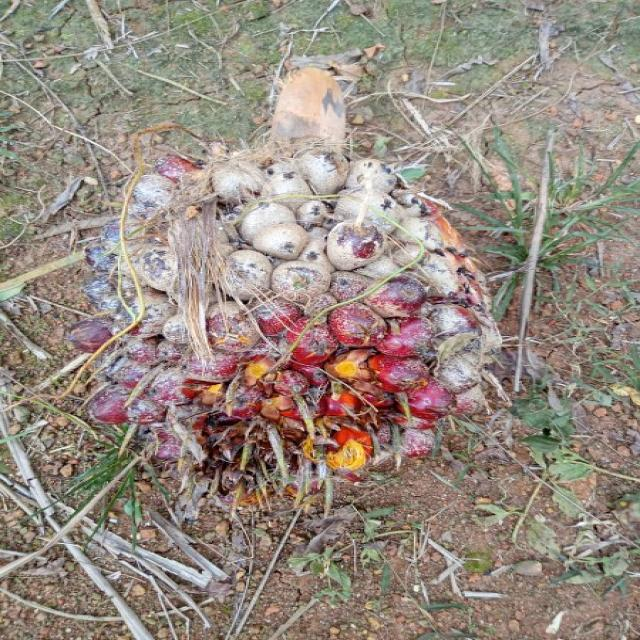fraksi 1: (53, 70, 565, 521)
